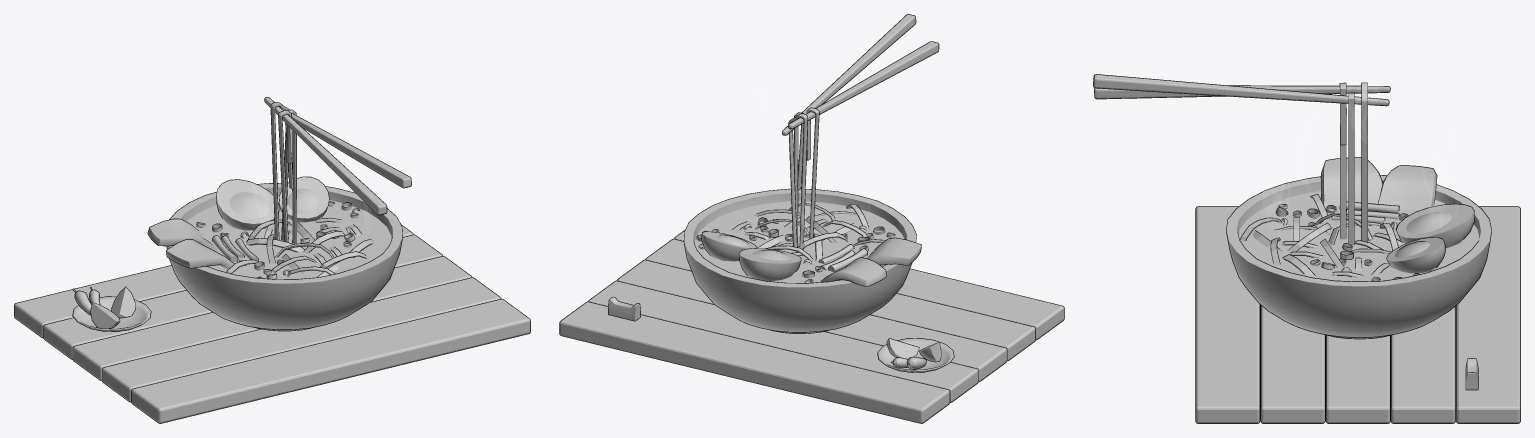
The picture shows the model from 3 angles, left to right: view 1: azimuth 30°, elevation 25°; view 2: azimuth 150°, elevation 25°; view 3: azimuth 270°, elevation 25°; orthographic projection. The views are drawn at different scales.
Parts seen in each view (by area): view 1: wwood.023_0; view 2: wwood.023_0; view 3: wwood.023_0.
Part boxes in pixels (<box>): wwood.023_0: <box>14,97,530,423</box>; wwood.023_0: <box>559,14,1064,423</box>; wwood.023_0: <box>1093,74,1520,423</box>.
Bounding box in the file's own units: 0.7359 × 0.5503 × 0.657.
